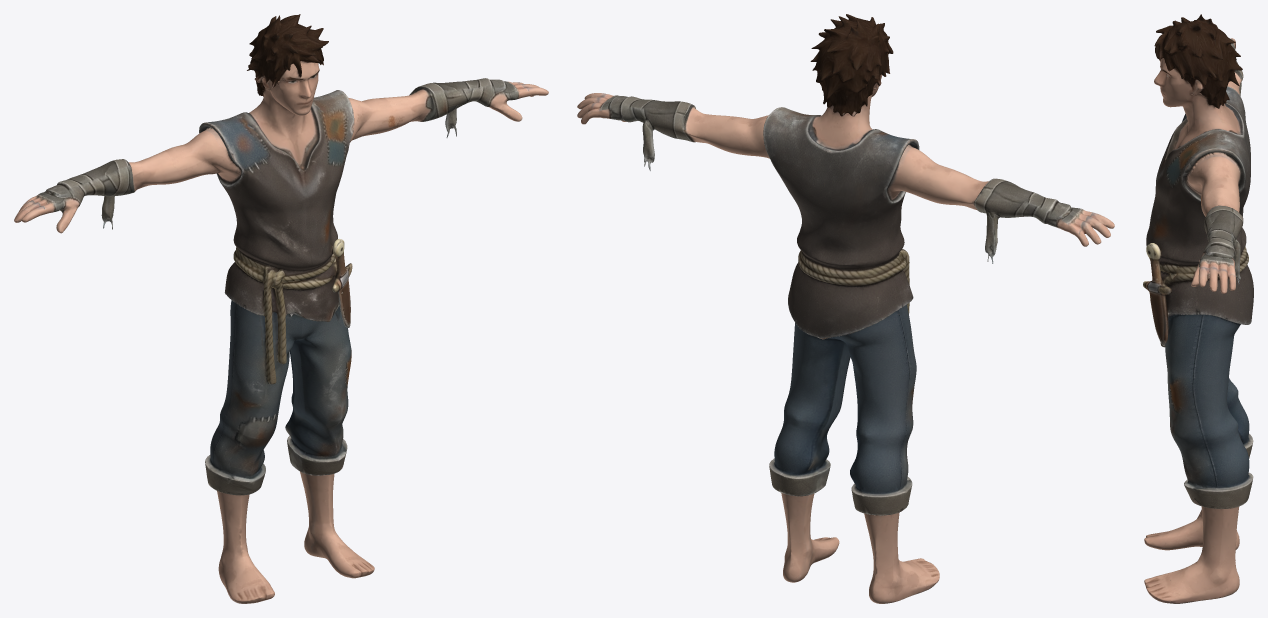
Rendered from player.glb.
3 views of the same model, side by side, from view 1: azimuth 30°, elevation 25°; view 2: azimuth 150°, elevation 25°; view 3: azimuth 270°, elevation 25° (orthographic).
Parts seen in each view (by area): view 1: player; view 2: player; view 3: player.
Boxes of the visible parts, x1,y1,x2,y2 form: player: (14,14,548,603); player: (577,14,1114,603); player: (1143,14,1253,603).
Size of the model in its own units: 1.88 by 1.9 by 0.3441.
1 material, 1 textured.
